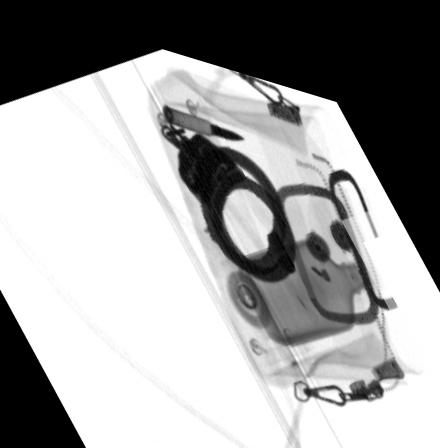Bullet: (162, 95, 244, 127)
HandCuffs: (155, 104, 300, 274)
